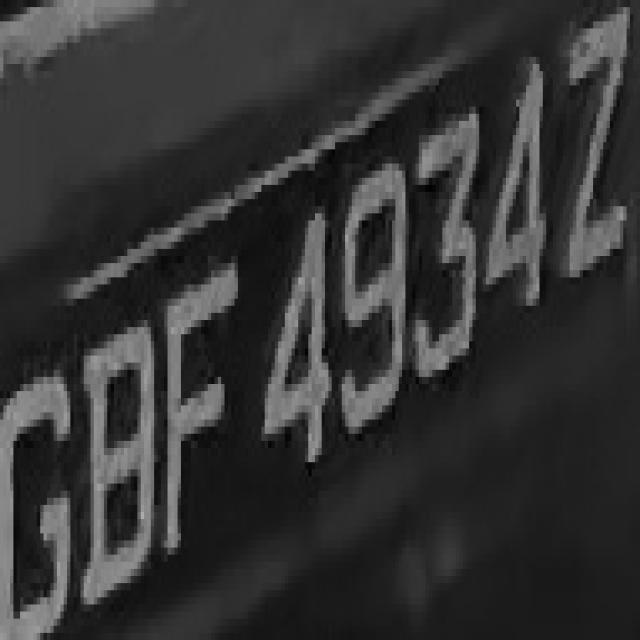3: (402, 107, 489, 398)
4: (261, 199, 352, 491), (486, 71, 566, 334)
9: (332, 149, 419, 441)
B: (84, 306, 161, 604)
F: (164, 242, 245, 569)
G: (17, 320, 80, 640)
Z: (553, 28, 626, 292)
